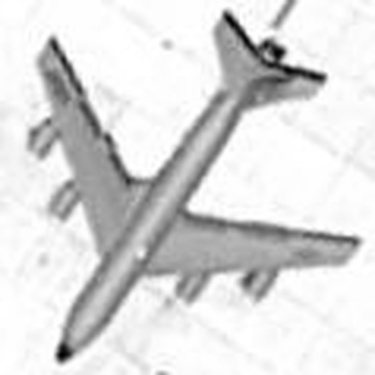airplane: (14, 4, 370, 366)
